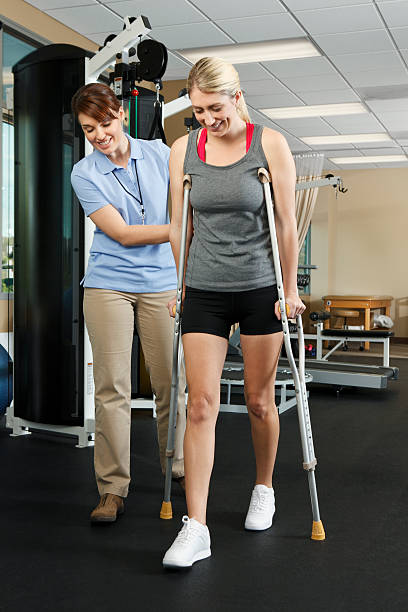crutches: (157, 55, 326, 567)
